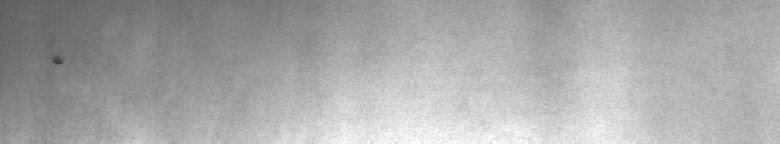fi: (51, 49, 68, 72)
